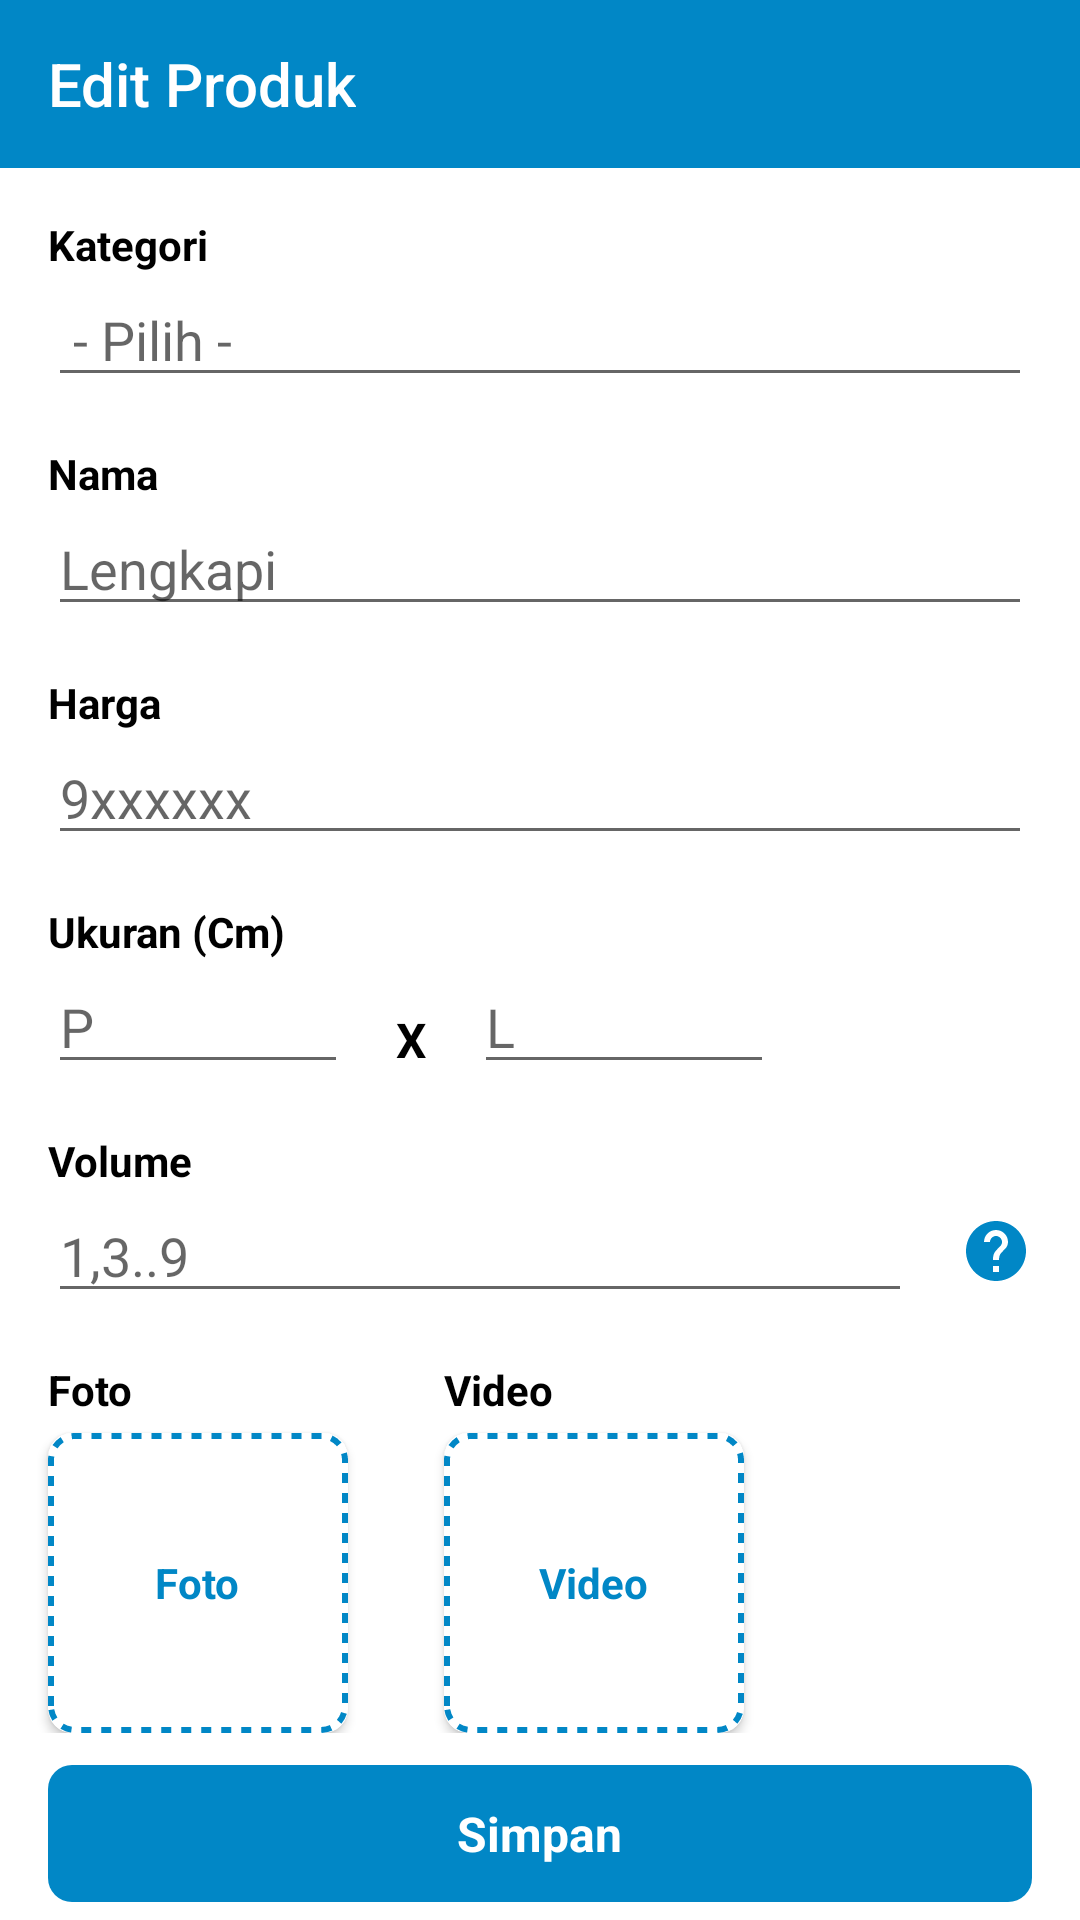

Where icons sit on this 1080px x 1920px app screen, as (x1, y1, x2, y2):
help: (966, 1221, 1026, 1281)
